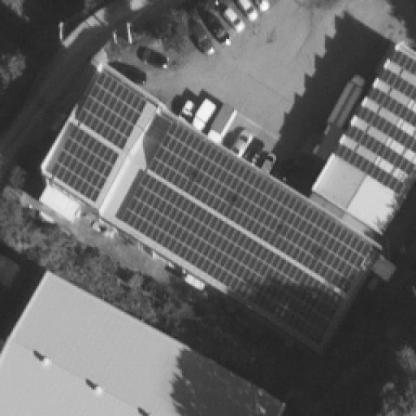solar-pv-panel: (147, 118, 373, 295), (120, 173, 344, 346), (76, 71, 146, 151), (51, 125, 119, 204)
